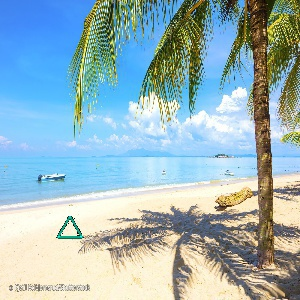triangle: (53, 211, 85, 240)
